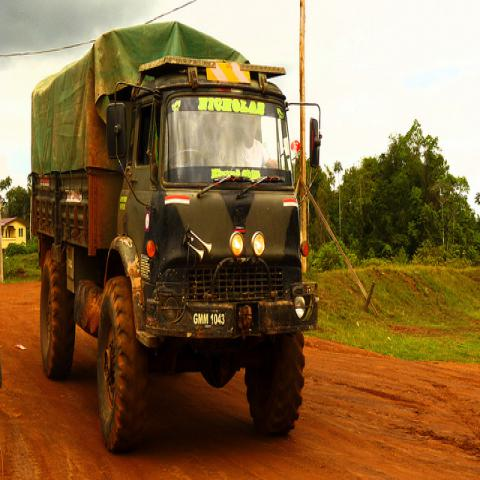truck: (25, 21, 322, 453)
